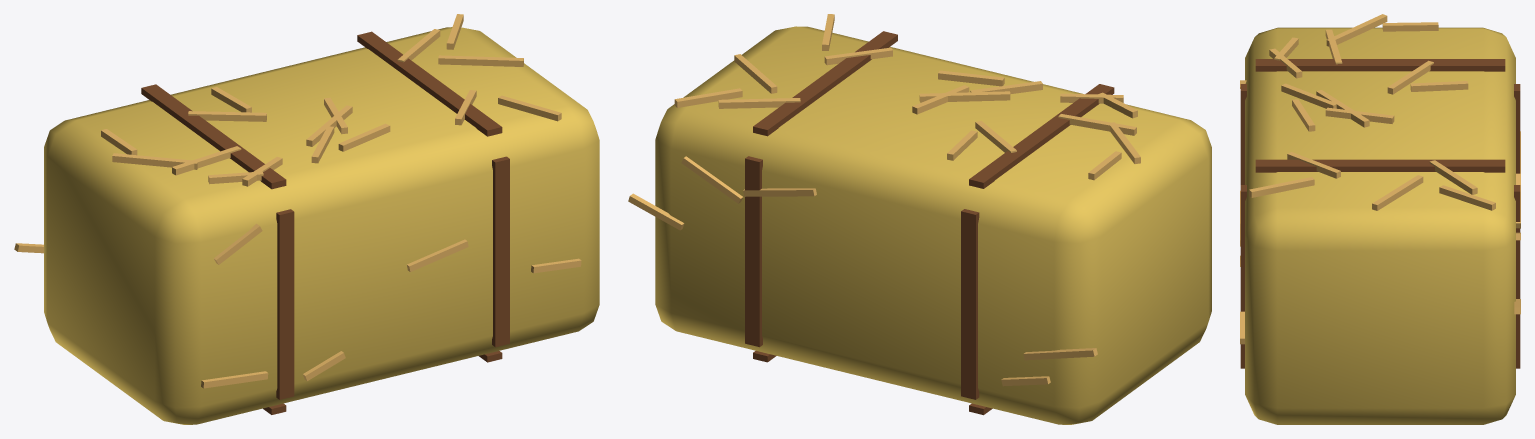
File: fardo_feno.glb
3 renders of one model, left to right at view 1: azimuth 30°, elevation 25°; view 2: azimuth 150°, elevation 25°; view 3: azimuth 270°, elevation 25°, orthographic. The views are drawn at different scales.
Visible parts, largest first — view 1: Fardo_Feno; view 2: Fardo_Feno; view 3: Fardo_Feno.
Part boxes in pixels (box(x1,y1,x2,y2)): Fardo_Feno: box(14, 14, 599, 424); Fardo_Feno: box(628, 14, 1211, 424); Fardo_Feno: box(1240, 14, 1520, 424).
Bounding box in the file's own units: 0.9498 × 0.455 × 0.518.
